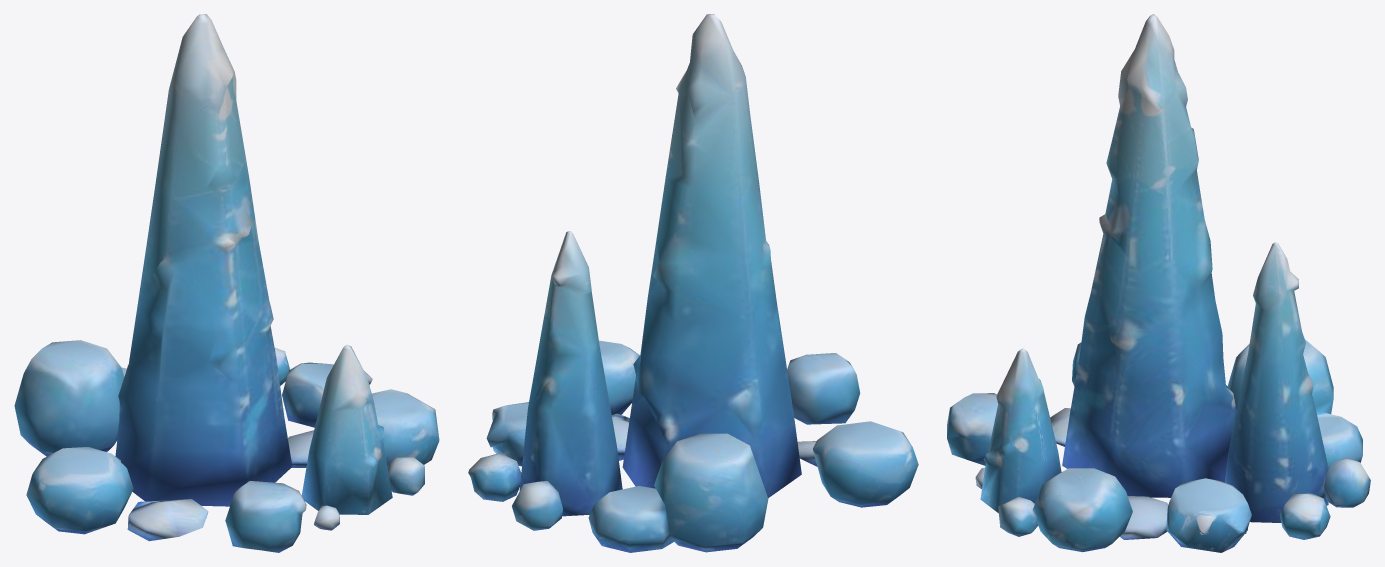
The model's file is spires.glb.
3 views of the same model, side by side, from view 1: azimuth 30°, elevation 25°; view 2: azimuth 150°, elevation 25°; view 3: azimuth 270°, elevation 25° (orthographic).
Visible parts, largest first — view 1: tripo_node_add51759-777f-43a2-8916-cdc73cece673; view 2: tripo_node_add51759-777f-43a2-8916-cdc73cece673; view 3: tripo_node_add51759-777f-43a2-8916-cdc73cece673.
Part boxes in pixels (x1,y1,x2,y2): tripo_node_add51759-777f-43a2-8916-cdc73cece673: [14, 14, 439, 552]; tripo_node_add51759-777f-43a2-8916-cdc73cece673: [468, 14, 918, 552]; tripo_node_add51759-777f-43a2-8916-cdc73cece673: [947, 14, 1370, 552].
Bounding box in the file's own units: 0.8496 × 0.998 × 0.8418.
Materials: 1 (1 with a texture image).
